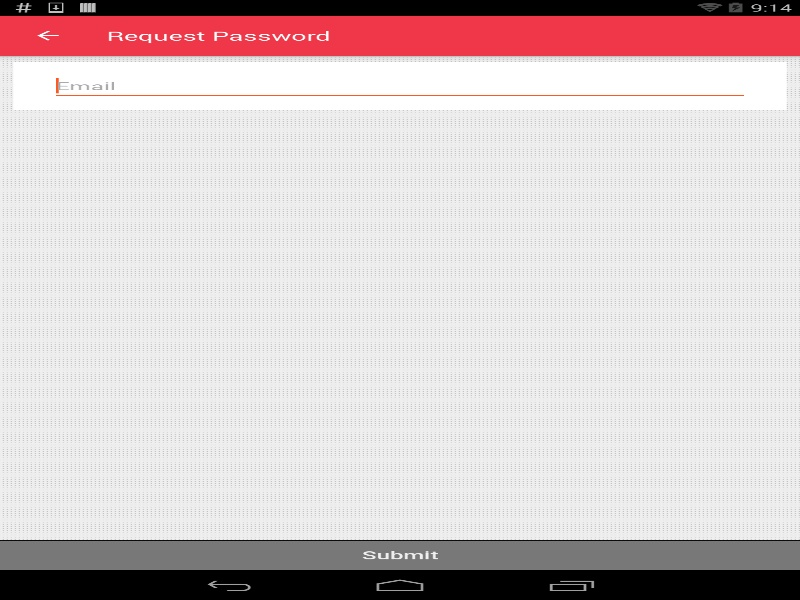Button: (0, 540, 800, 570), (10, 15, 85, 55)
Input: (50, 71, 749, 100)
